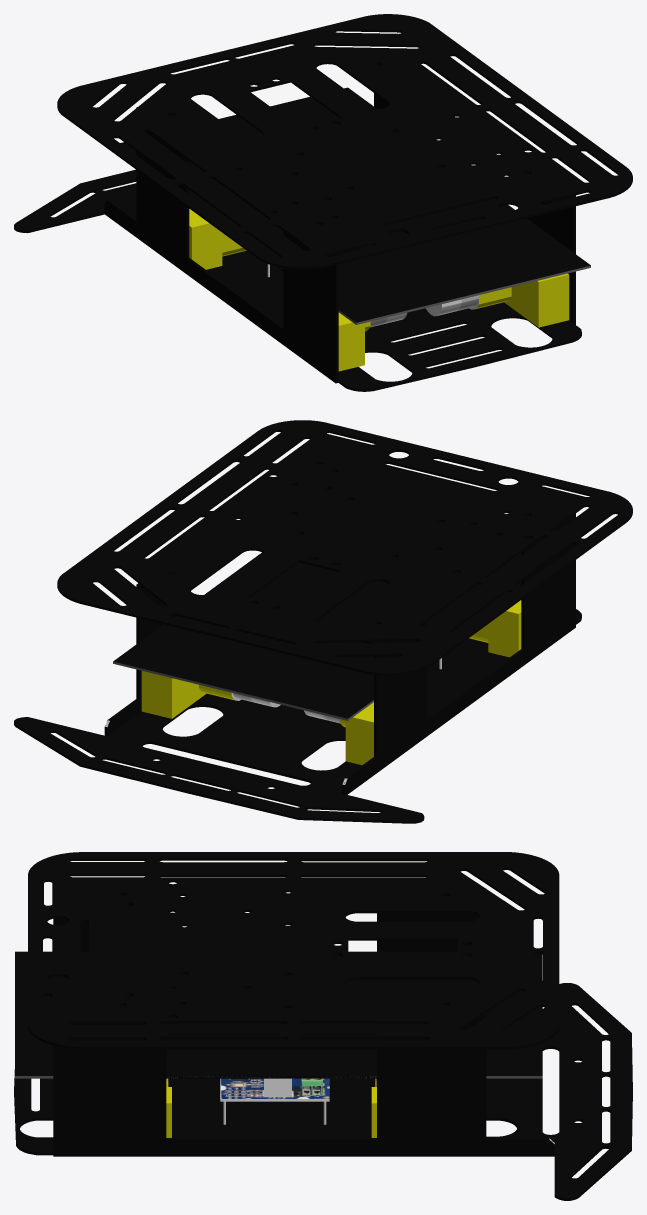
Rendered from chassis.dae.
3 views of the same model, one above another, from view 1: azimuth 30°, elevation 25°; view 2: azimuth 150°, elevation 25°; view 3: azimuth 270°, elevation 25° (orthographic). The views are drawn at different scales.
Visible parts, largest first — view 1: SketchUp_026, SketchUp, SketchUp_081, group_2_001, group_0_002, group_1_001, group_2, SketchUp_080; view 2: SketchUp_026, SketchUp, SketchUp_081, group_3_001, group_0_001, group_1_002, group_3, SketchUp_082; view 3: SketchUp_026, SketchUp, SketchUp_081, Cube, SketchUp_084, Cube_007, SketchUp_016, SketchUp_055, SketchUp_027, SketchUp_028, SketchUp_033.
Boxes of the visible parts, x1,y1,x2,y2 form: SketchUp_026: (57,14,632,269); SketchUp: (14,64,581,391); SketchUp_081: (120,87,590,322); group_2_001: (538,274,569,327); group_0_002: (192,223,222,269); group_1_001: (338,322,364,371); group_2: (504,273,568,327); SketchUp_080: (338,265,590,324); SketchUp_026: (57,420,632,675); SketchUp: (14,464,581,823); SketchUp_081: (113,499,576,718); group_3_001: (141,671,171,718); group_0_001: (345,717,373,765); group_1_002: (488,611,518,657); group_3: (172,678,206,718); SketchUp_082: (113,661,373,720); SketchUp_026: (28,852,559,1049); SketchUp: (14,895,632,1200); SketchUp_081: (15,951,542,1075); Cube: (220,1078,329,1101); SketchUp_084: (166,1076,376,1078); Cube_007: (264,1078,291,1097); SketchUp_016: (158,1036,288,1039); SketchUp_055: (299,1036,428,1039); SketchUp_027: (299,858,428,861); SketchUp_028: (299,874,427,877); SketchUp_033: (159,874,287,877).
Size of the model in its own units: 1.87 by 2.26 by 0.58.
